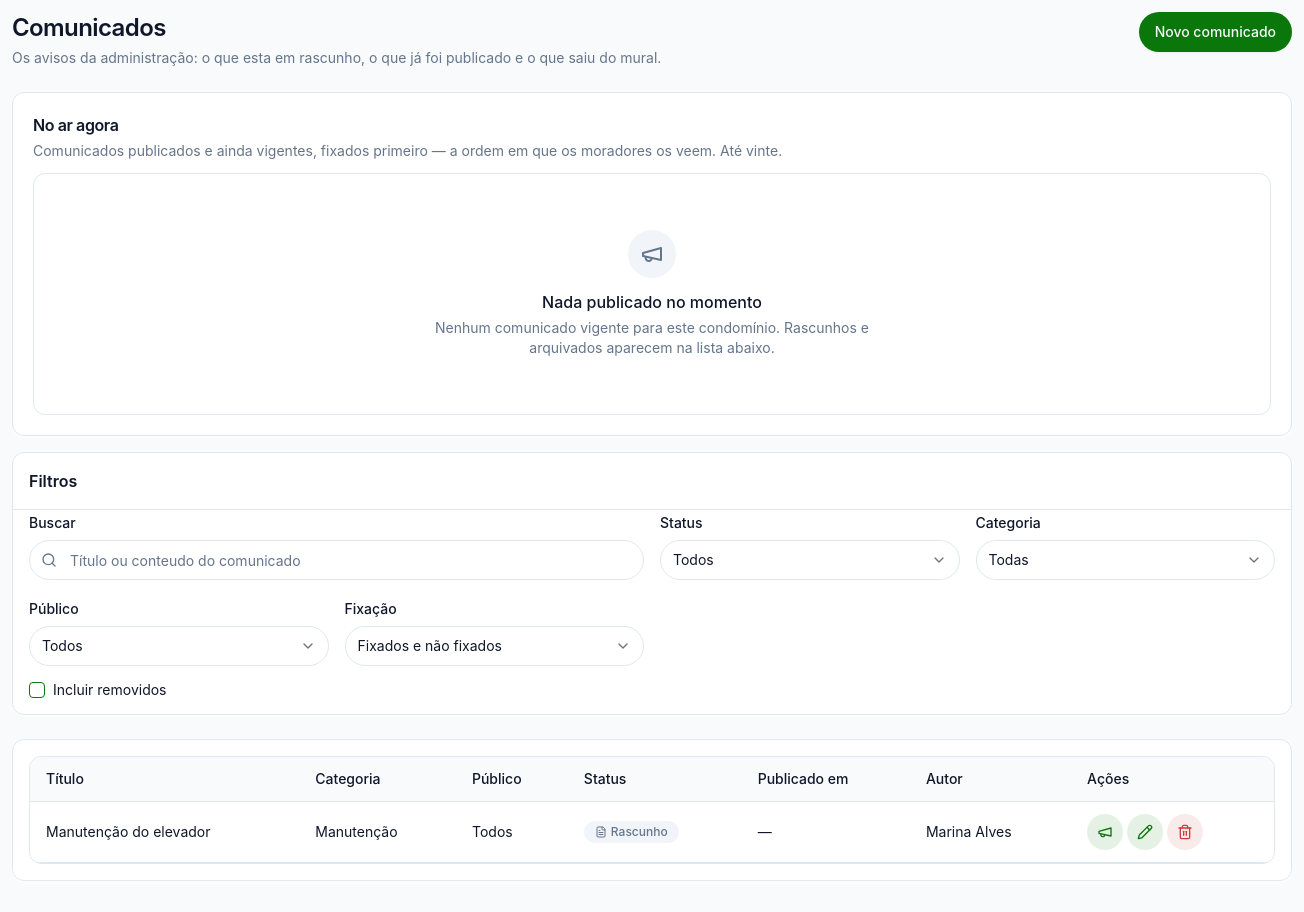
Test: Ciclo de vida do comunicado › publicar muda o status na lista
Expected: the text "Rascunho" is shown, [584,821,679,843]
Click the button named "Publicar Manutenção do elevador" at point(1105, 832), box [1087,814,1123,850]
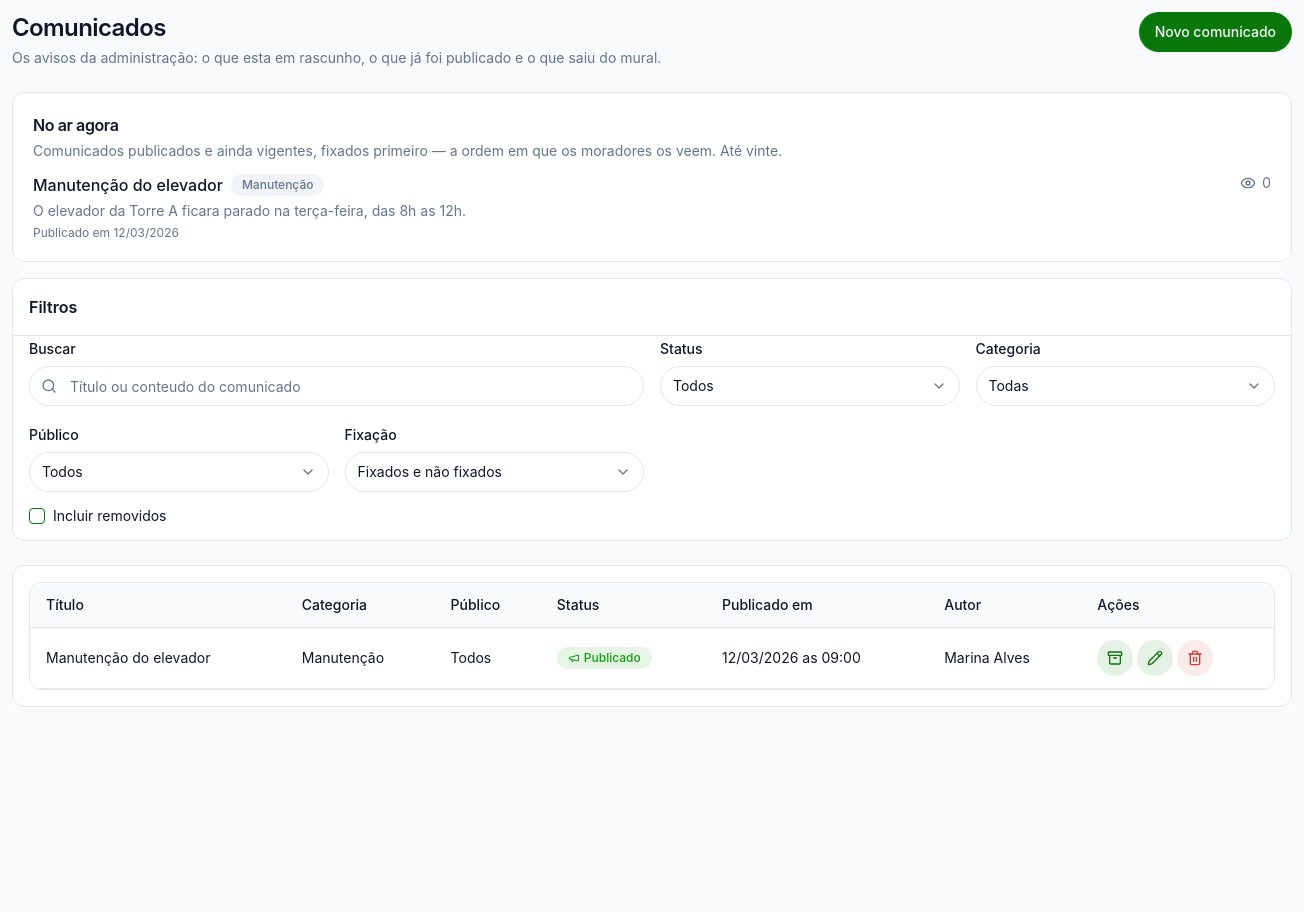
Now the text "Publicado" is shown, box [557,647,652,669]
Now the button named "Arquivar Manutenção do elevador" is shown, box [1097,640,1133,676]
